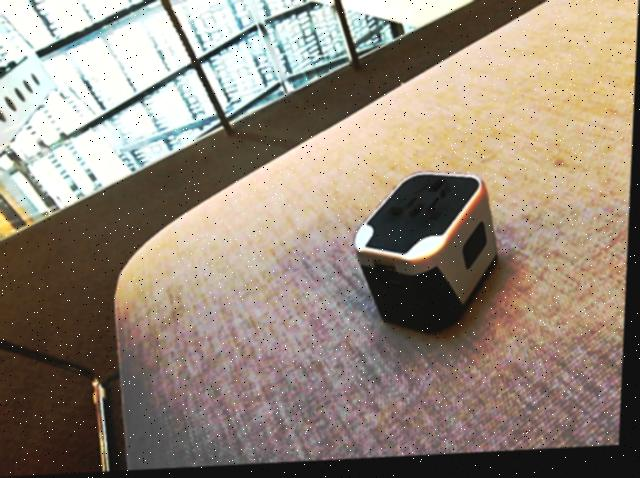adapter: (352, 172, 503, 342)
